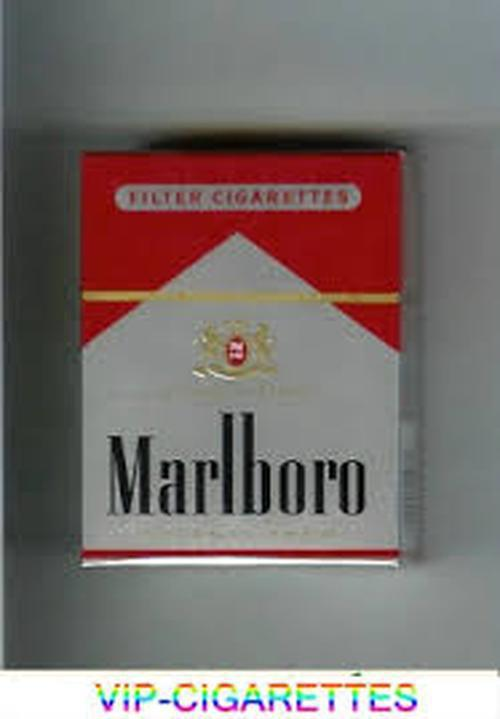marlboro: (83, 156, 395, 566)
